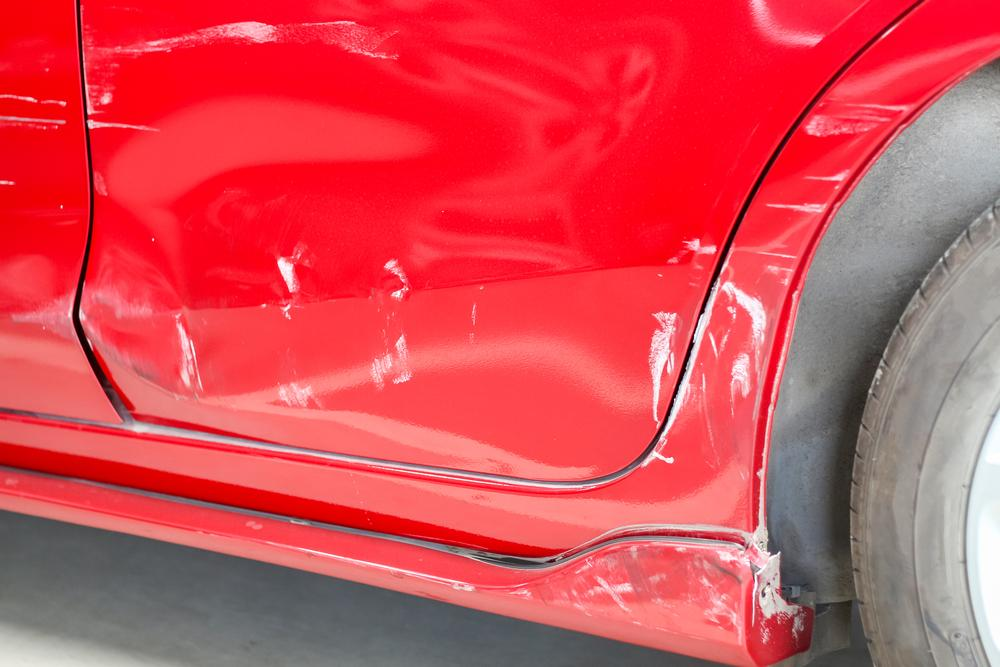scratch: (675, 94, 916, 428), (167, 255, 426, 415), (80, 14, 407, 137), (530, 546, 758, 644), (644, 228, 717, 432), (0, 94, 70, 202)
